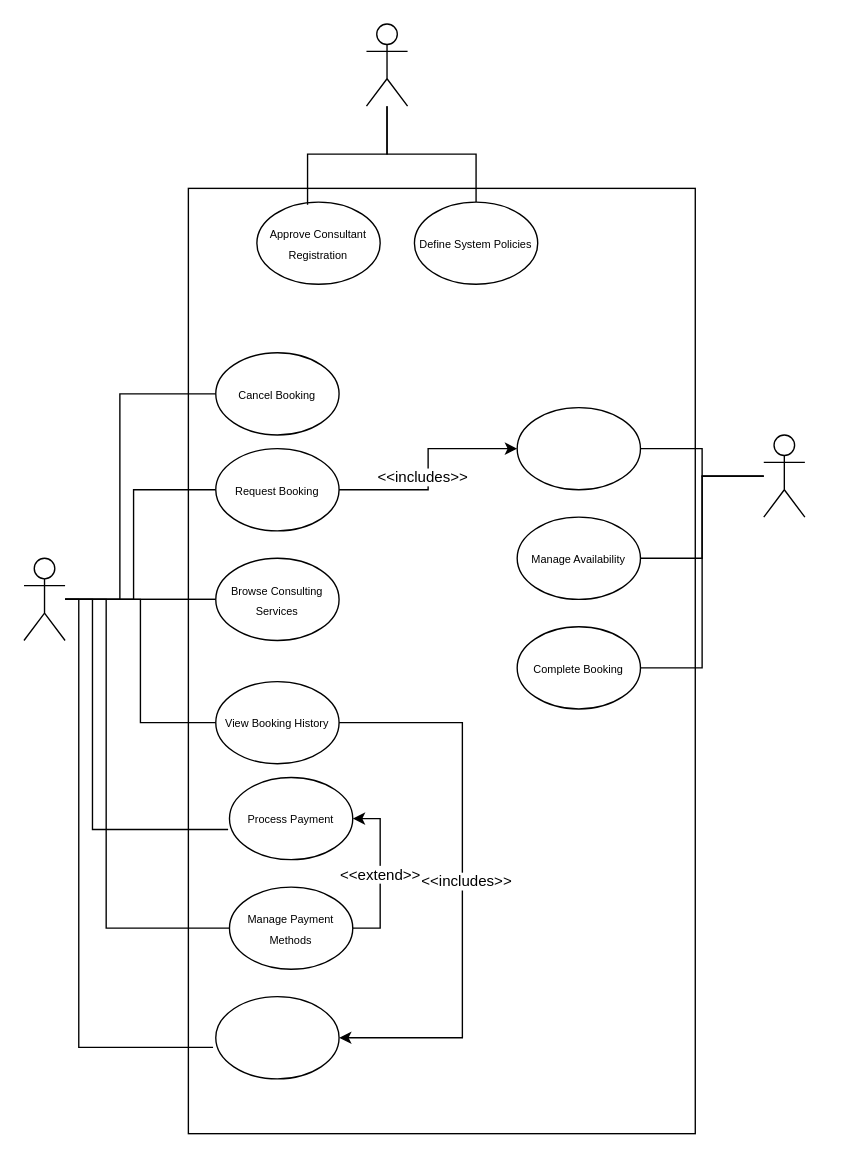
Some shapes in this 847 by 1158 pixel diagram are drawn without their labels. Here are the shapes that lost their labels. From the top down, the centre of each, then its label:
At pixel 386 64: "Admin".
At pixel 578 448: "Accept Or Reject Booking Request".
At pixel 783 475: "Consultant".
At pixel 44 598: "Client".
At pixel 276 1037: "View Payment History".
